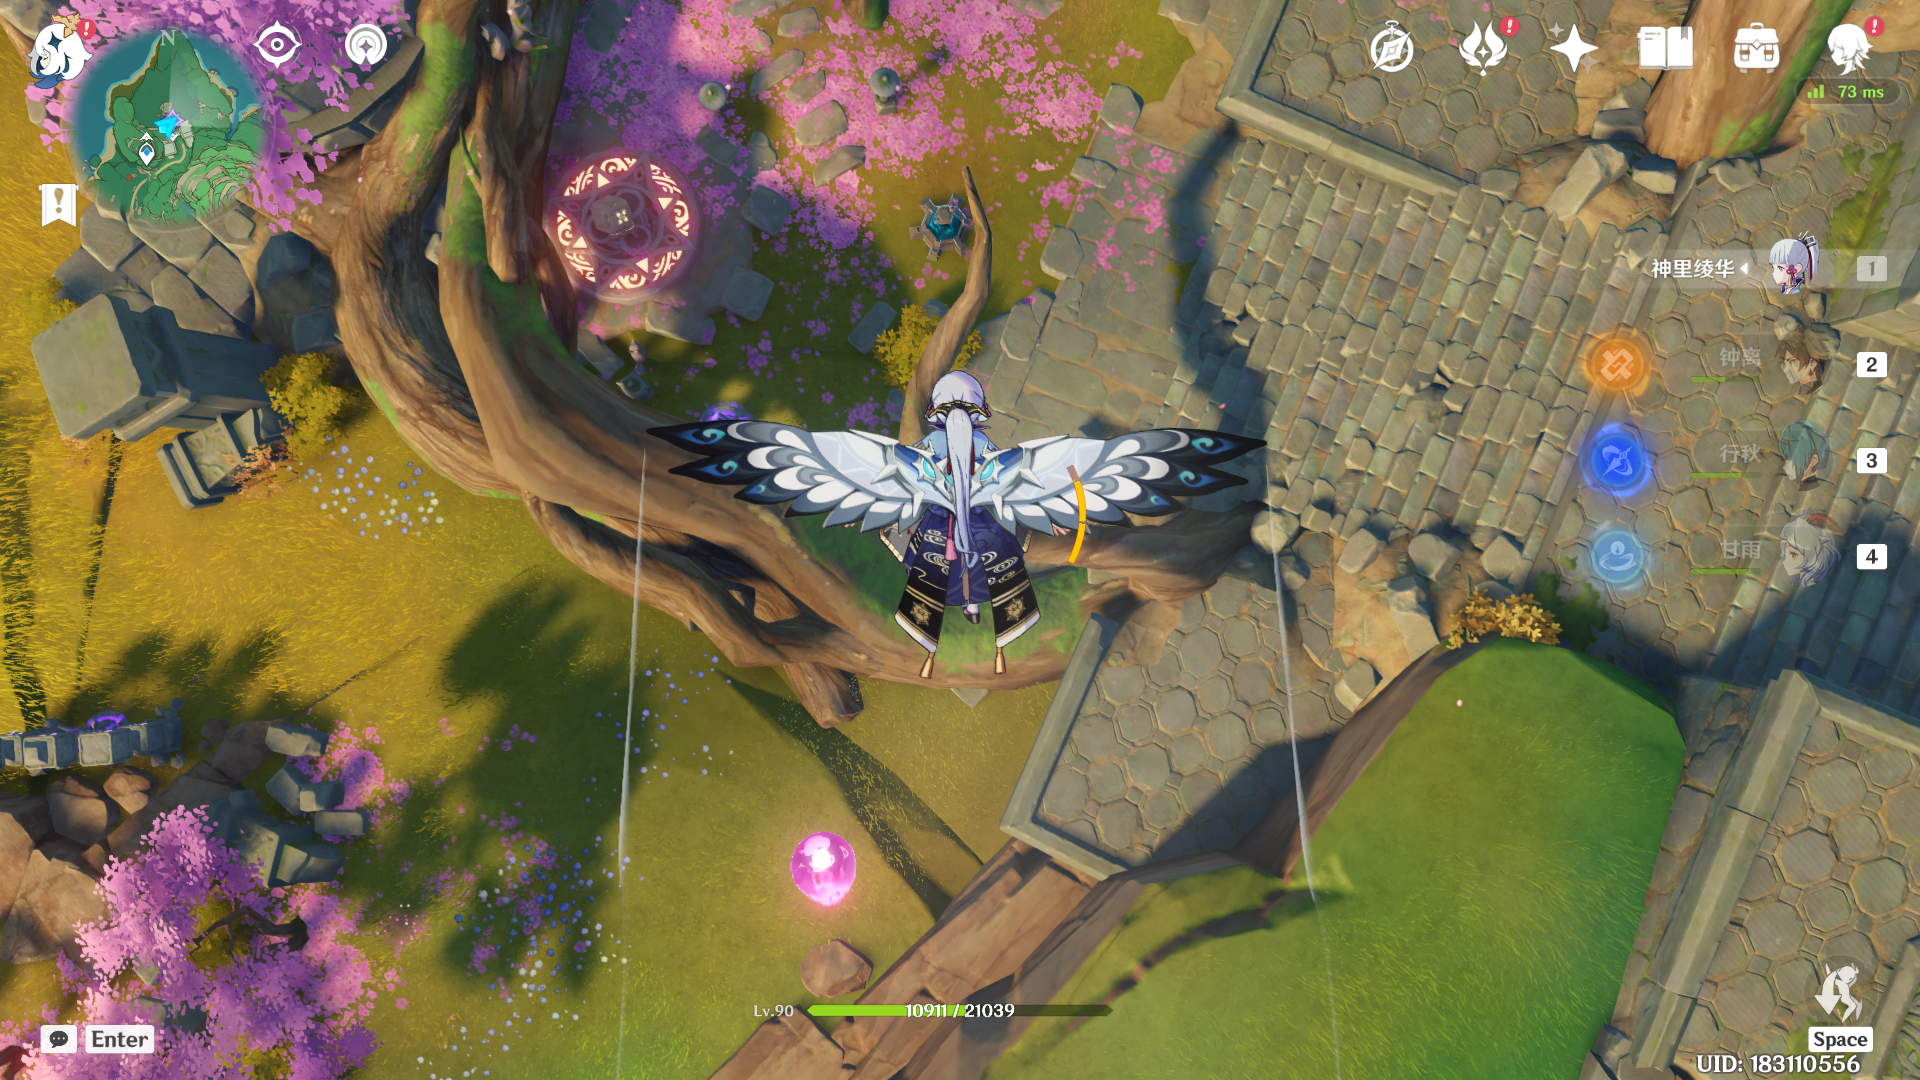character: (825, 355, 1105, 769)
